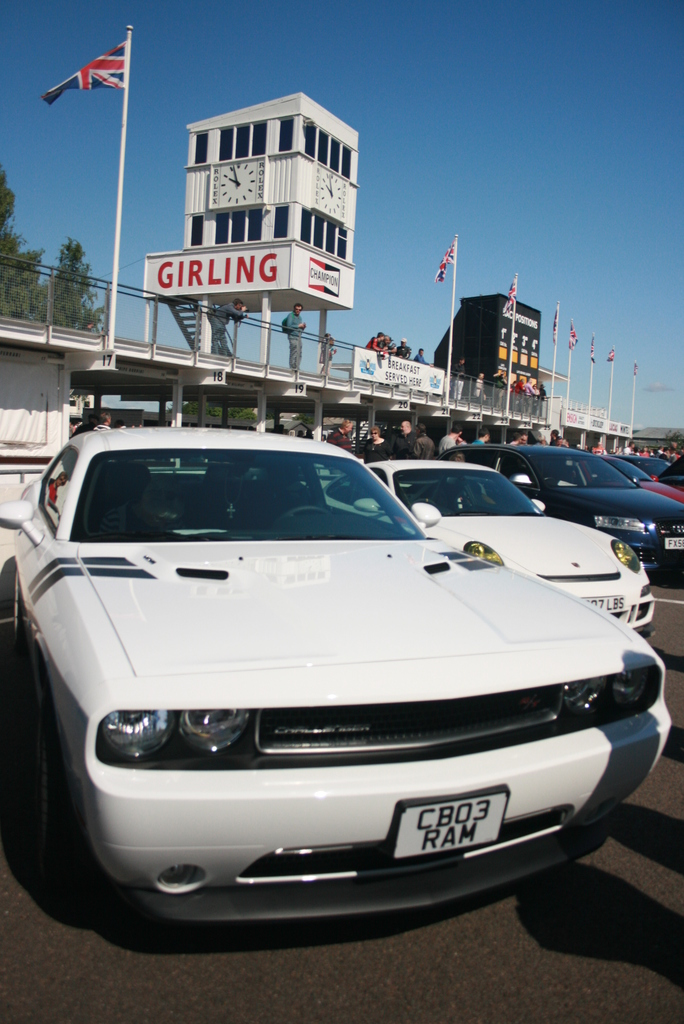Car: (0, 414, 652, 917), (375, 459, 661, 639), (440, 435, 683, 576), (605, 445, 683, 512), (644, 455, 680, 487)
